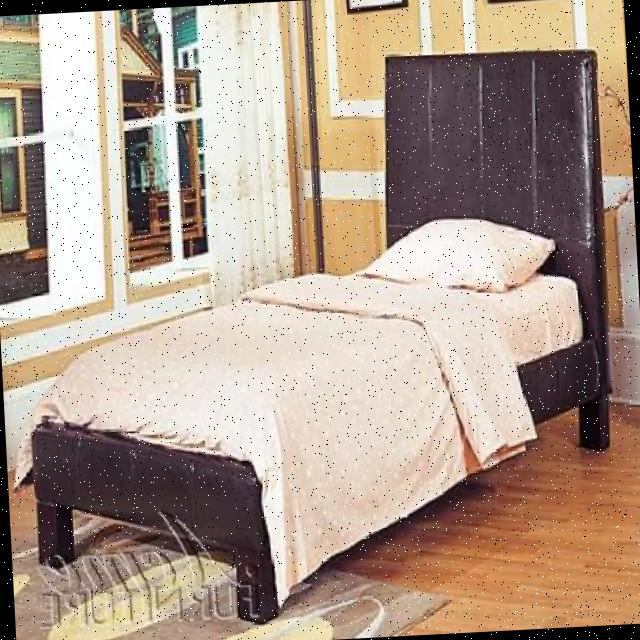Bed: (0, 37, 632, 640)
